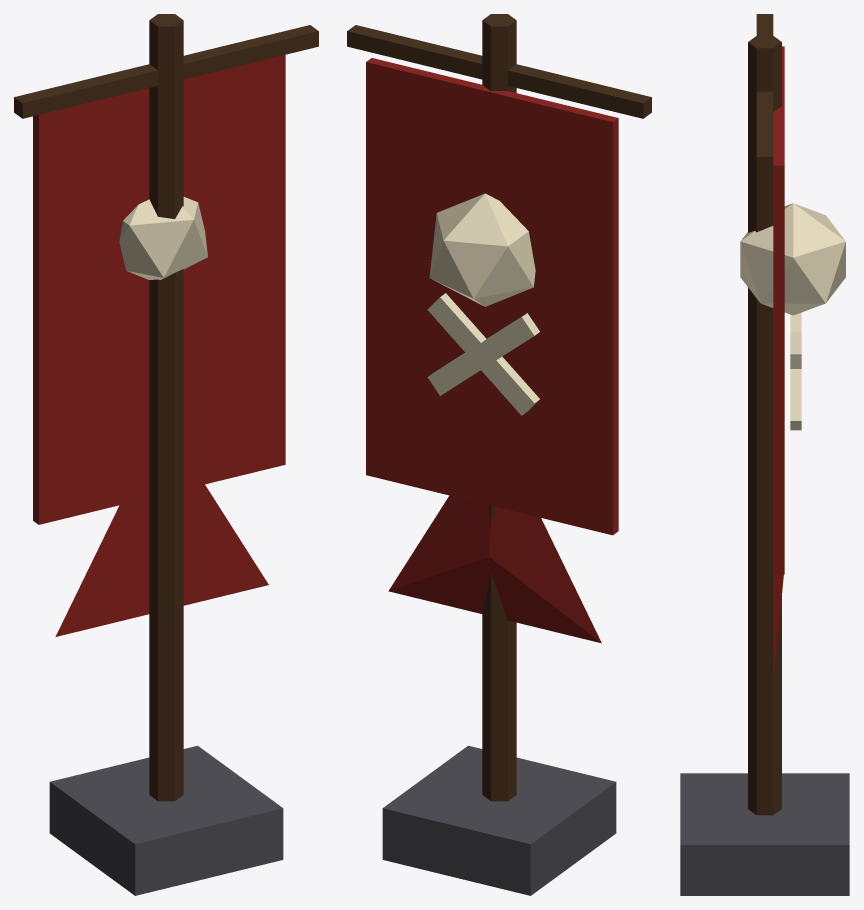
Rendered from goblin_banner.glb.
3 views of the same model, side by side, from view 1: azimuth 30°, elevation 25°; view 2: azimuth 150°, elevation 25°; view 3: azimuth 270°, elevation 25° (orthographic).
Parts seen in each view (by area): view 1: goblin_banner; view 2: goblin_banner; view 3: goblin_banner.
Part boxes in pixels (<box>): goblin_banner: <box>14,14,318,895</box>; goblin_banner: <box>347,14,651,895</box>; goblin_banner: <box>680,14,849,895</box>.
Bounding box in the file's own units: 1.2 × 3.2 × 0.6.
1 material, 1 textured.
